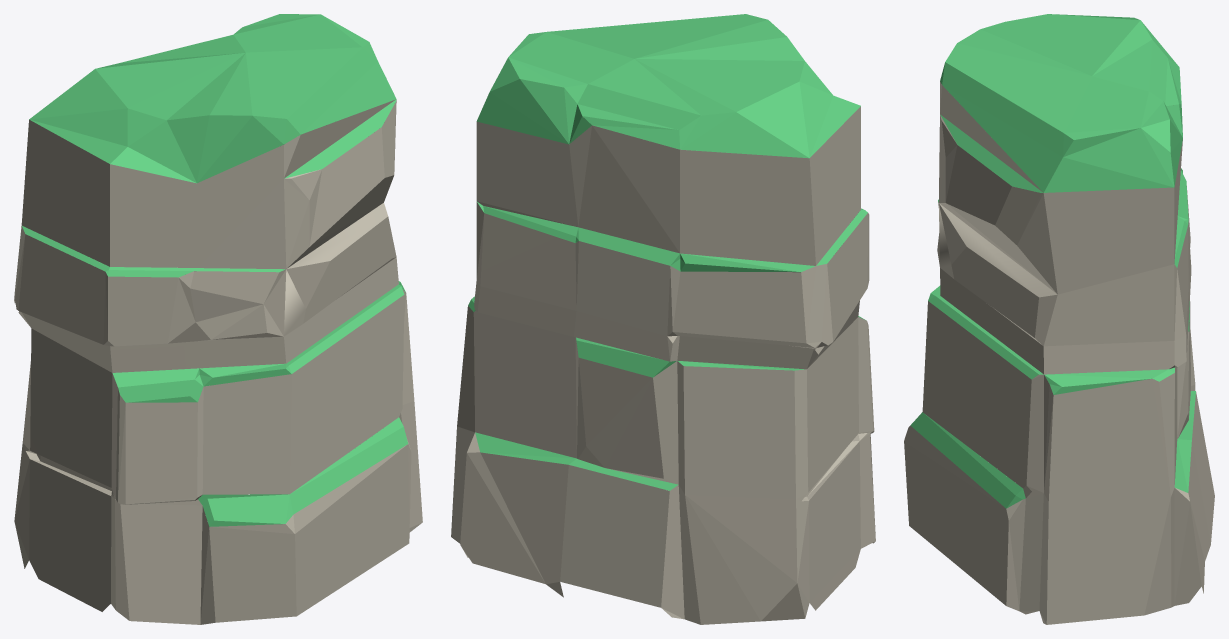
Rendered from grass-stone1.glb.
3 renders of one model, left to right at view 1: azimuth 30°, elevation 25°; view 2: azimuth 150°, elevation 25°; view 3: azimuth 270°, elevation 25°, orthographic. The views are drawn at different scales.
Parts seen in each view (by area): view 1: terain2.096; view 2: terain2.096; view 3: terain2.096.
Part boxes in pixels (x1,y1,x2,y2): terain2.096: (14, 14, 422, 624); terain2.096: (451, 14, 875, 624); terain2.096: (904, 14, 1214, 624).
Bounding box in the file's own units: 3.07 × 4.05 × 2.33.
